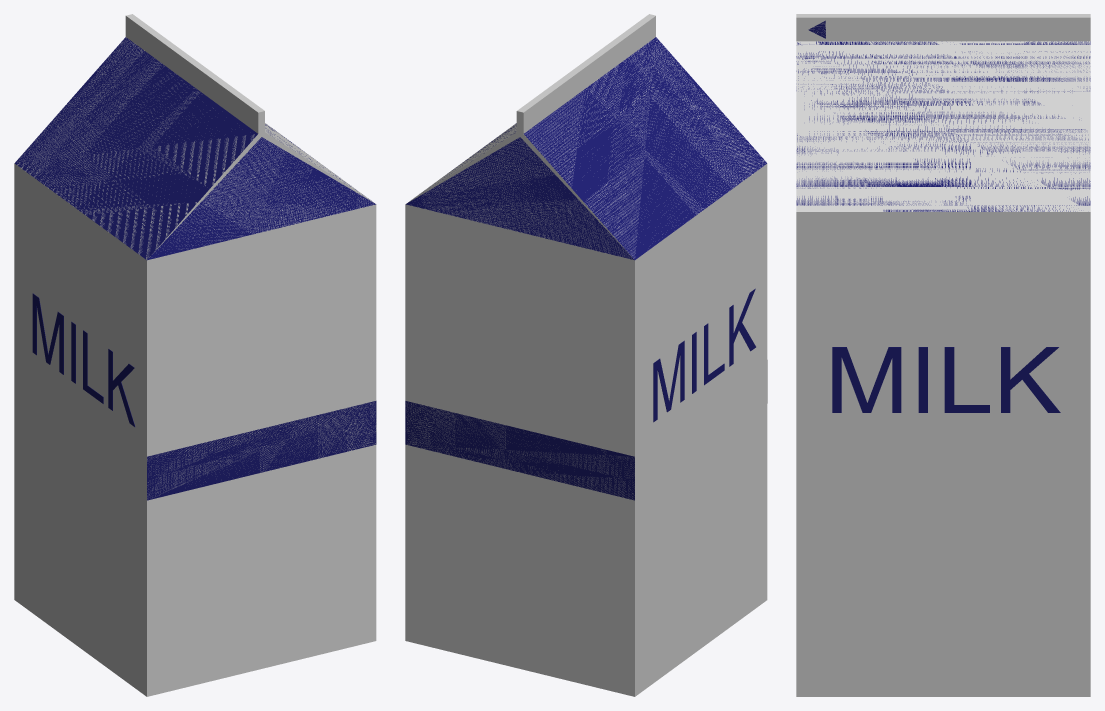
3 views of the same model, side by side, from view 1: azimuth 30°, elevation 25°; view 2: azimuth 150°, elevation 25°; view 3: azimuth 270°, elevation 25° (orthographic). The views are drawn at different scales.
Parts seen in each view (by area): view 1: SketchUp (×6), MILK (×2); view 2: SketchUp (×6), MILK (×2); view 3: SketchUp (×3), MILK (×4).
Boxes of the visible parts, left/top/right/bottom form: SketchUp (×6): left=14, top=14, right=376, bottom=696; MILK (×2): left=32, top=293, right=135, bottom=426; SketchUp (×6): left=405, top=14, right=767, bottom=696; MILK (×2): left=653, top=288, right=755, bottom=422; SketchUp (×3): left=796, top=14, right=1090, bottom=696; MILK (×4): left=832, top=347, right=1060, bottom=412.
Bounding box in the file's own units: 5.77 × 5.76 × 13.36.
